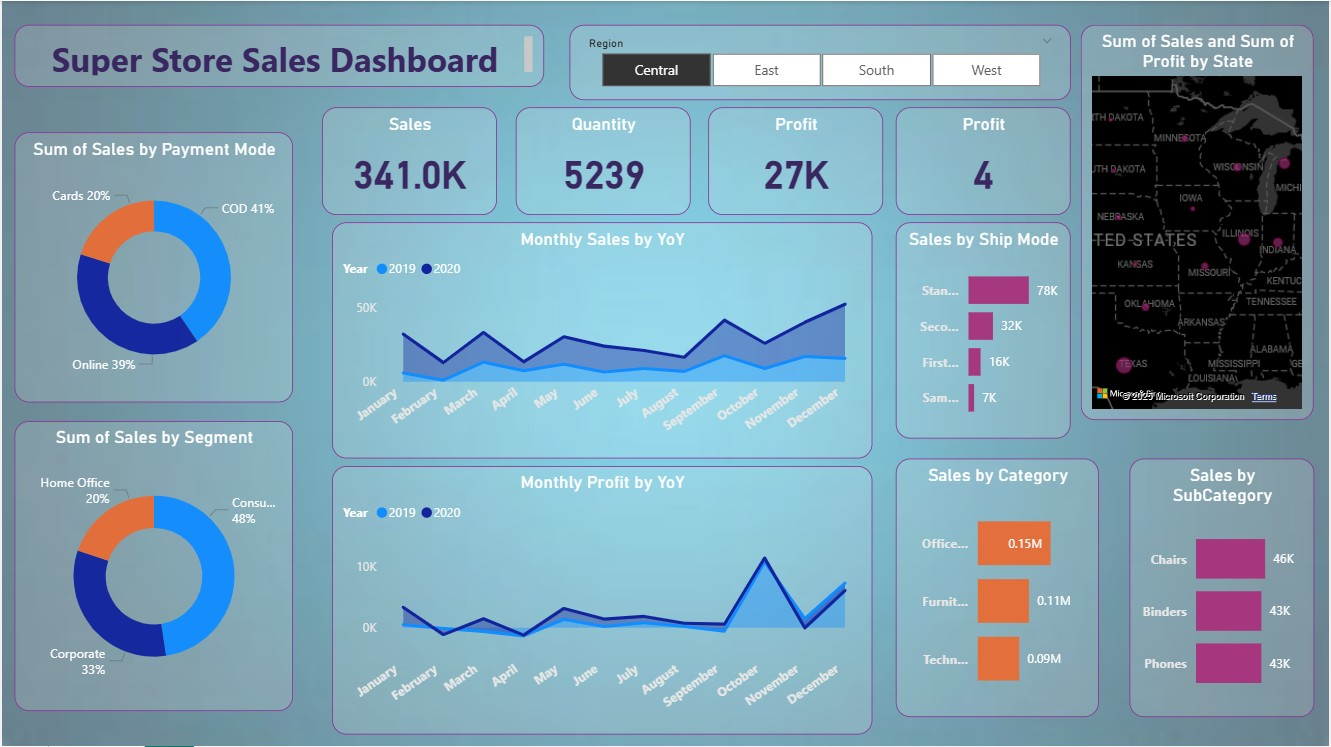

The page's visual inventory and layout, read from the dashboard file:
{"tool":"powerbi","page":{"name":"Page 1","canvas":[1280,720],"ordinal":0},"visuals":[{"type":"clusteredBarChart","title":"Sales by Category","fields":{"Category":["SuperStore_Sales_Dataset.Category"],"Y":["Sum(SuperStore_Sales_Dataset.Sales)"]},"box":[863.1,441.9,196.2,249.7],"z":0},{"type":"clusteredBarChart","title":"Sales by SubCategory","fields":{"Category":["SuperStore_Sales_Dataset.Sub-Category","SuperStore_Sales_Dataset.Category"],"Y":["Sum(SuperStore_Sales_Dataset.Sales)"]},"box":[1088.2,441.9,178.4,249.7],"z":1000},{"type":"clusteredBarChart","title":"Sales by Ship Mode","fields":{"Category":["SuperStore_Sales_Dataset.Ship Mode","SuperStore_Sales_Dataset.Sub-Category","SuperStore_Sales_Dataset.Category"],"Y":["Sum(SuperStore_Sales_Dataset.Sales)"]},"box":[863.1,214.1,168.8,208.6],"z":2000},{"type":"stackedAreaChart","title":"Monthly Sales by YoY","fields":{"Y":["Sum(SuperStore_Sales_Dataset.Sales)"],"Category":["SuperStore_Sales_Dataset.Order Date.Variation.Date Hierarchy.Month","SuperStore_Sales_Dataset.Order Date.Variation.Date Hierarchy.Day"],"Series":["SuperStore_Sales_Dataset.Order Date.Variation.Date Hierarchy.Year"]},"box":[318.4,214.1,521.4,227.8],"z":3000},{"type":"stackedAreaChart","title":"Monthly Profit by YoY","fields":{"Category":["SuperStore_Sales_Dataset.Order Date.Variation.Date Hierarchy.Month","SuperStore_Sales_Dataset.Order Date.Variation.Date Hierarchy.Day"],"Series":["SuperStore_Sales_Dataset.Order Date.Variation.Date Hierarchy.Year"],"Y":["Sum(SuperStore_Sales_Dataset.Profit)"]},"box":[318.4,448.7,521.4,259.3],"z":4000},{"type":"map","fields":{"Category":["SuperStore_Sales_Dataset.State"],"Size":["Sum(SuperStore_Sales_Dataset.Sales)"]},"box":[1041.5,23.3,225,381.5],"z":5000},{"type":"donutChart","fields":{"Category":["SuperStore_Sales_Dataset.Segment"],"Y":["Sum(SuperStore_Sales_Dataset.Sales)"]},"box":[12.3,404.8,269,279.9],"z":6000},{"type":"donutChart","fields":{"Category":["SuperStore_Sales_Dataset.Payment Mode"],"Y":["Sum(SuperStore_Sales_Dataset.Sales)"]},"box":[12.3,126.2,269,260.7],"z":7000},{"type":"slicer","fields":{"Values":["SuperStore_Sales_Dataset.Region"]},"box":[547.5,23.3,484.4,72.7],"z":8000},{"type":"textbox","box":[12.1,22.9,511.5,60.3],"z":9000},{"type":"card","title":"Sales","fields":{"Values":["Sum(SuperStore_Sales_Dataset.Sales)"]},"box":[308.7,102.9,168.8,104.3],"z":10000},{"type":"card","title":"Quantity","fields":{"Values":["Sum(SuperStore_Sales_Dataset.Quantity)"]},"box":[495.4,102.9,168.8,104.3],"z":11000},{"type":"card","title":"Profit","fields":{"Values":["Sum(SuperStore_Sales_Dataset.Profit)"]},"box":[682,102.9,168.8,104.3],"z":12000},{"type":"card","title":"Profit","fields":{"Values":["Avg(SuperStore_Sales_Dataset.AvgDelivery)"]},"box":[863.1,102.9,168.8,104.3],"z":13000}]}

Visuals, with their boxes in screenshot pixels (x1, y1, x2, y2), scaled from the page's 1280x720 canvas onto the 1331x747 screenshot:
"Sales by Category" clusteredBarChart: locate(897, 458, 1102, 718)
"Sales by SubCategory" clusteredBarChart: locate(1132, 458, 1317, 718)
"Sales by Ship Mode" clusteredBarChart: locate(897, 222, 1073, 439)
"Monthly Sales by YoY" stackedAreaChart: locate(331, 222, 873, 458)
"Monthly Profit by YoY" stackedAreaChart: locate(331, 466, 873, 735)
map - SuperStore_Sales_Dataset.State x Sum(SuperStore_Sales_Dataset.Sales): locate(1083, 24, 1317, 420)
donutChart - SuperStore_Sales_Dataset.Segment x Sum(SuperStore_Sales_Dataset.Sales): locate(13, 420, 293, 710)
donutChart - SuperStore_Sales_Dataset.Payment Mode x Sum(SuperStore_Sales_Dataset.Sales): locate(13, 131, 293, 401)
slicer - SuperStore_Sales_Dataset.Region: locate(569, 24, 1073, 100)
textbox: locate(13, 24, 544, 86)
"Sales" card: locate(321, 107, 497, 215)
"Quantity" card: locate(515, 107, 691, 215)
"Profit" card: locate(709, 107, 885, 215)
"Profit" card: locate(897, 107, 1073, 215)
